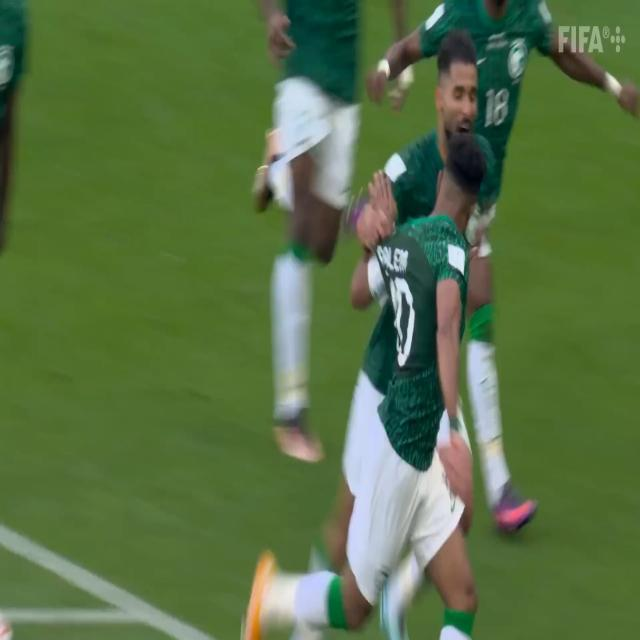player: (311, 47, 470, 640), (362, 124, 504, 640), (267, 0, 366, 463)
